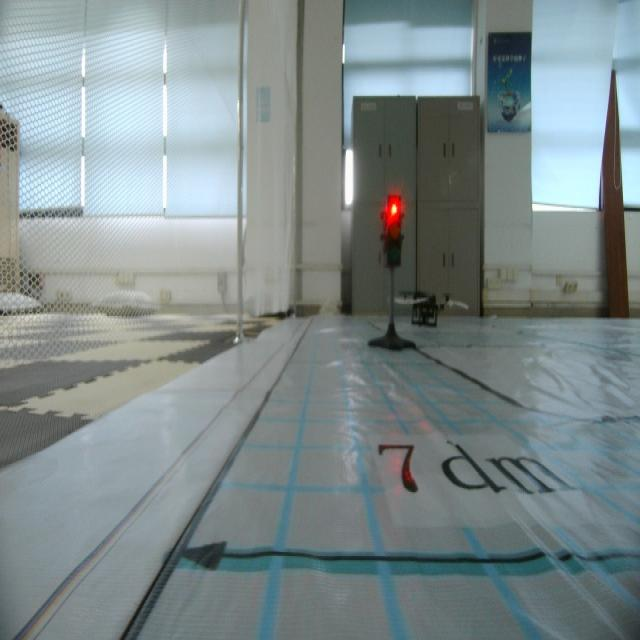red: (384, 193, 407, 275)
